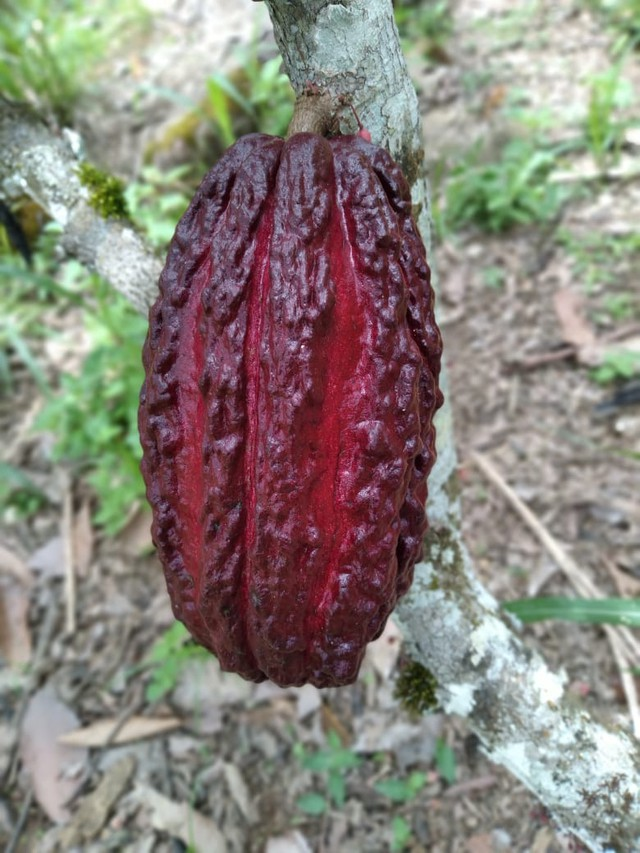Health: (127, 125, 449, 692)
